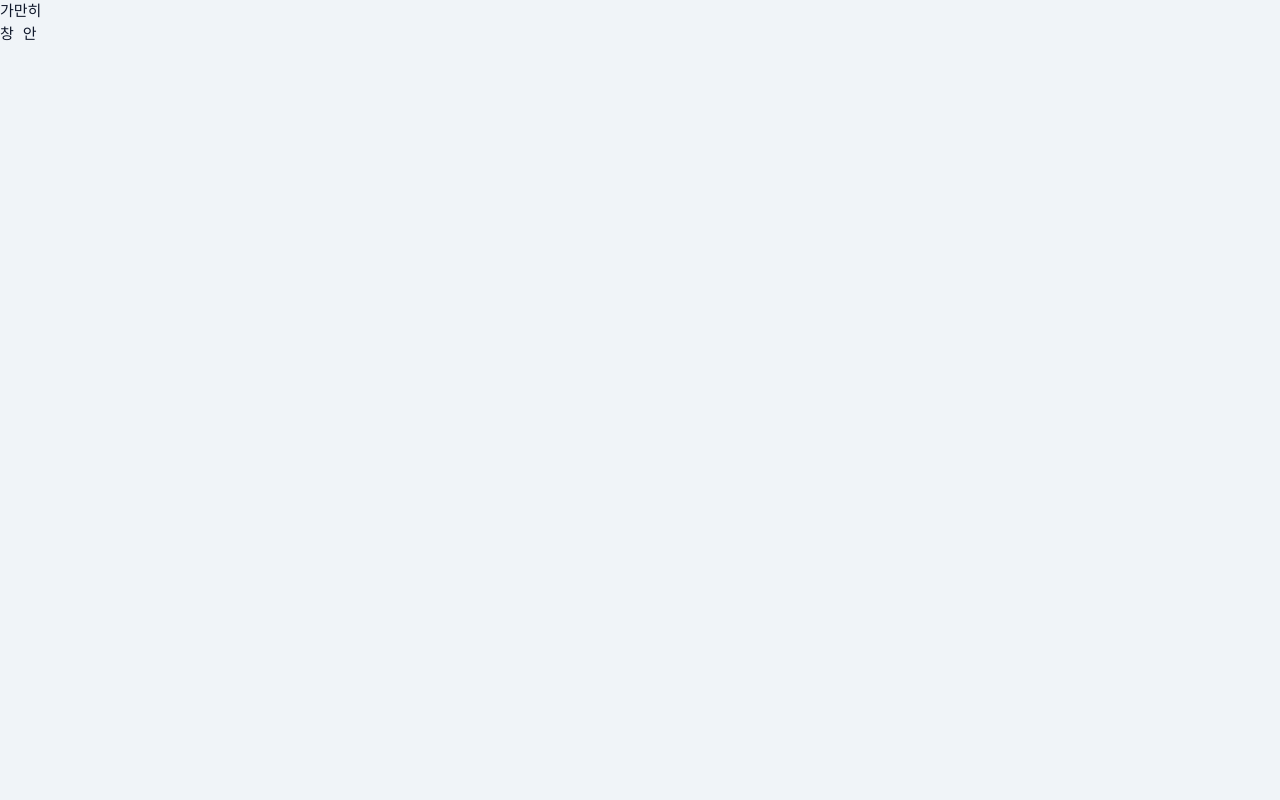
Test: 당겨서 새로고침 › 도는 동안 또 당겨도 한 번만 받는다
The width and height of the screenshot is (1280, 800).
Later steps or results of the test are not shown.
Press the mouse on the element with test id "본문": [150, 98] box [0,1,300,195]
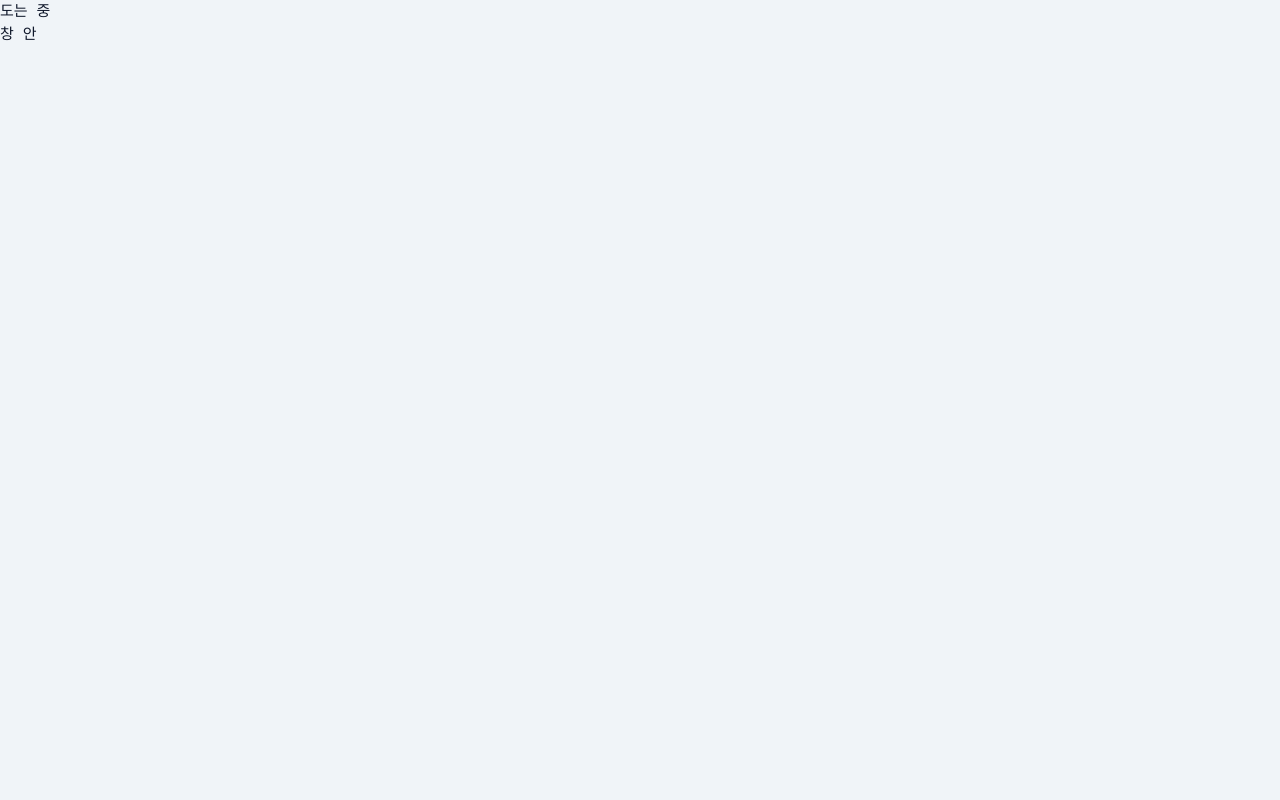
Press the mouse on the element with test id "본문": [150, 98] box [0,1,300,195]
Wait 2000 ms
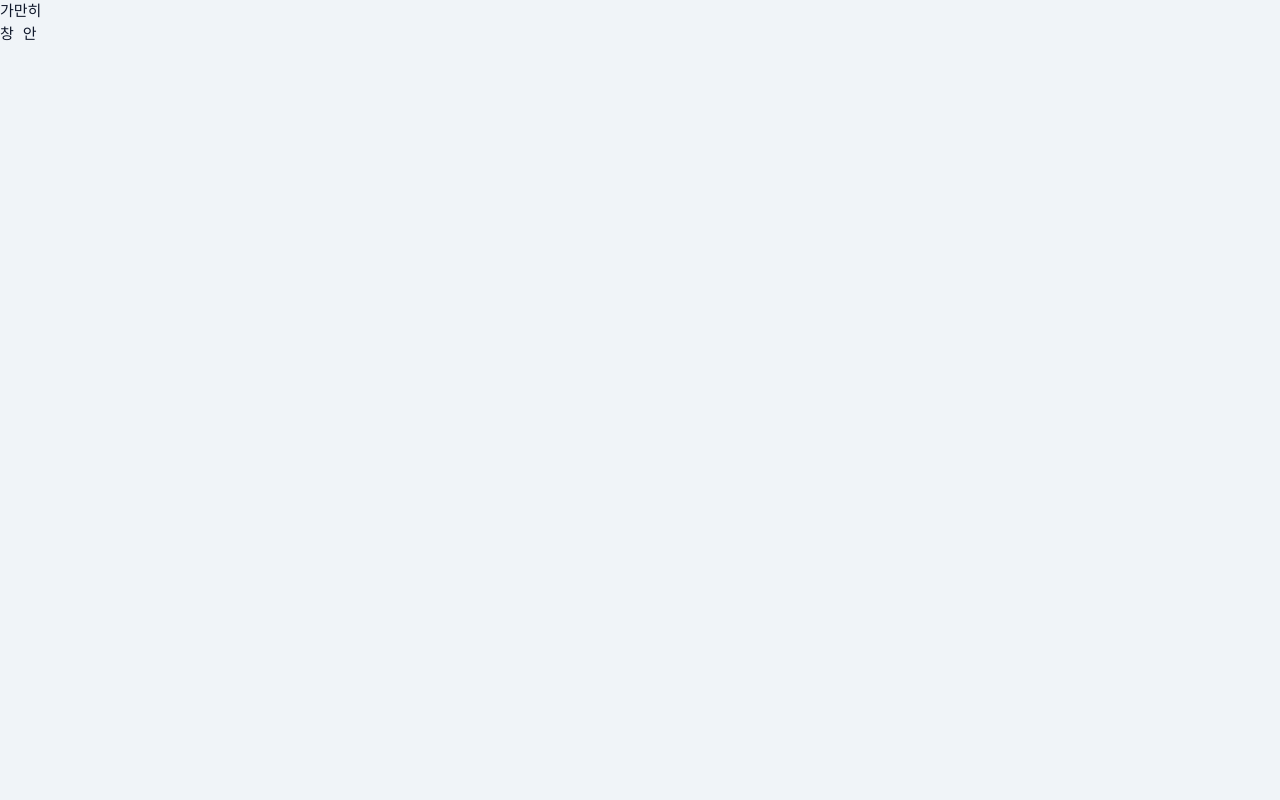
Expected: the text "가만히" is shown, [0,1,41,21]
